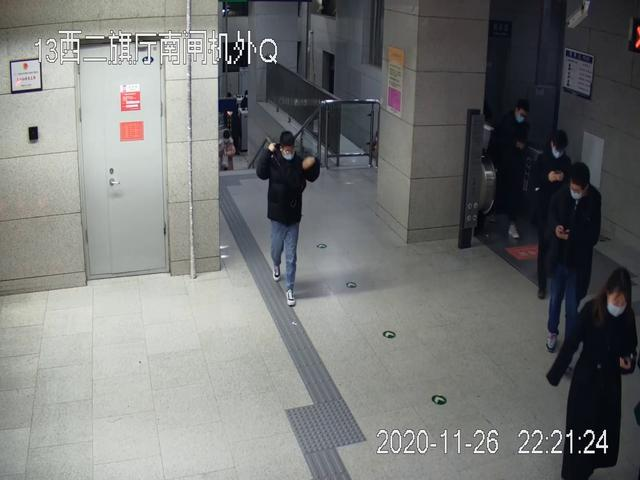person: (547, 267, 640, 480), (255, 129, 321, 306), (545, 162, 600, 351), (489, 94, 533, 239)
